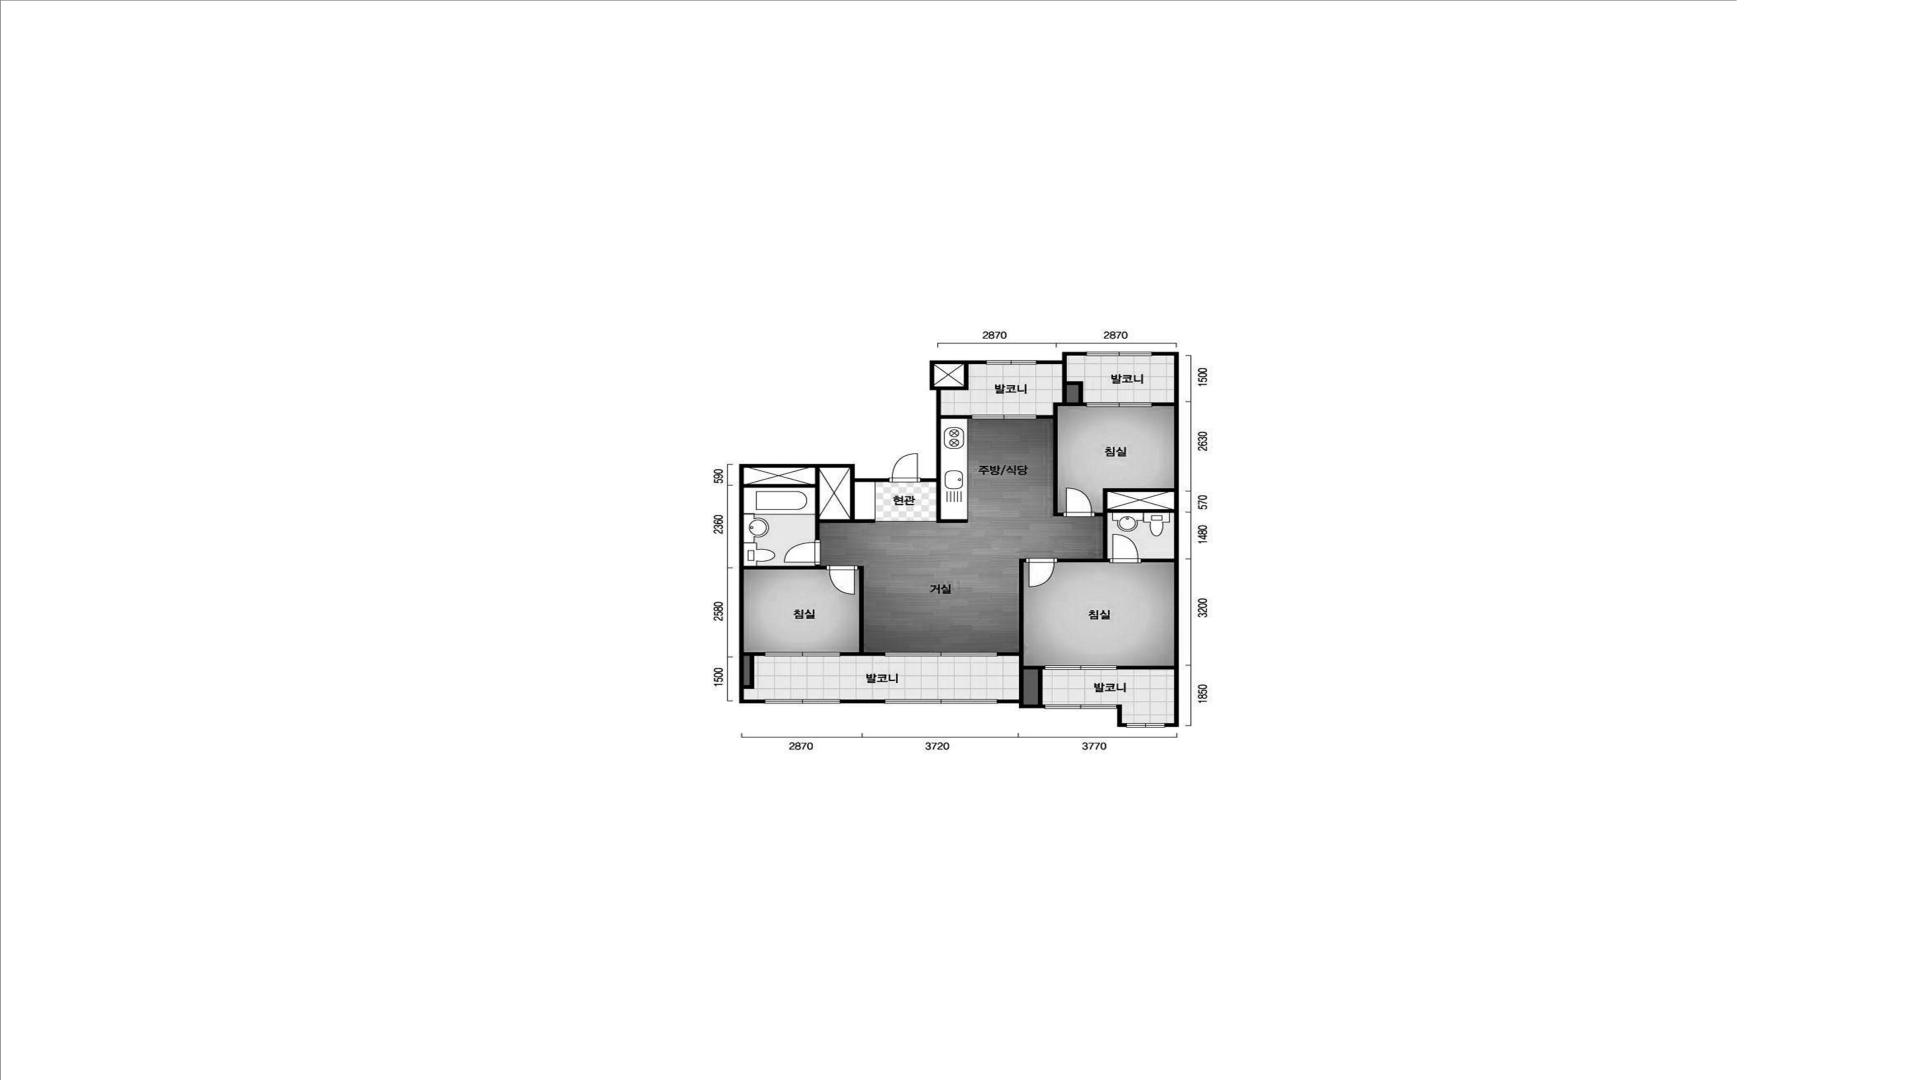door: (783, 539, 822, 564), (825, 566, 858, 595), (1109, 534, 1142, 563), (889, 454, 920, 483), (1063, 488, 1095, 517), (1026, 558, 1058, 587)
wall: (740, 464, 889, 703), (1153, 352, 1179, 727), (744, 468, 876, 539), (1058, 488, 1174, 562), (920, 360, 985, 481), (1036, 364, 1087, 517), (998, 558, 1044, 704), (841, 566, 885, 655), (936, 483, 968, 524), (744, 651, 764, 688), (942, 364, 968, 390), (1036, 352, 1085, 364), (997, 699, 1044, 708), (744, 564, 825, 570), (1067, 381, 1084, 402), (1117, 666, 1174, 670), (1117, 704, 1126, 727), (841, 699, 885, 703), (1142, 558, 1174, 563), (942, 415, 971, 419), (1153, 402, 1174, 406)
window: (885, 651, 997, 657), (885, 699, 997, 704), (765, 699, 840, 704), (765, 651, 840, 657), (1044, 704, 1117, 709), (1044, 665, 1117, 670), (1087, 402, 1153, 407), (971, 414, 1036, 419), (1085, 352, 1153, 356), (986, 360, 1036, 365), (1126, 723, 1166, 728)
